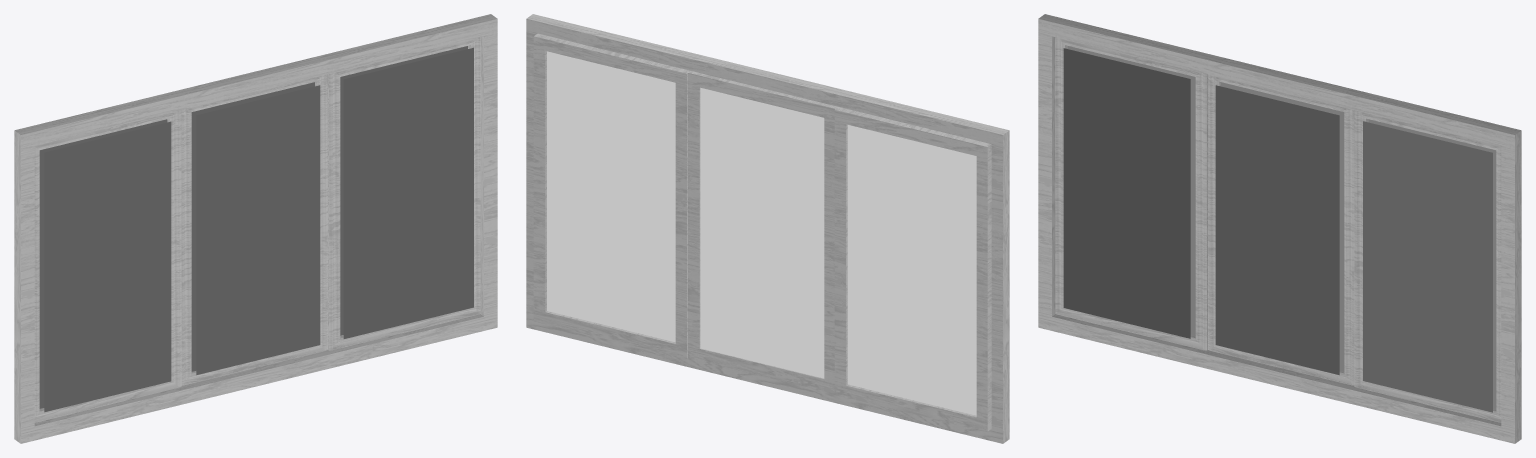
The model's file is Window_0dfbe90f.obj.
3 views of the same model, side by side, from view 1: azimuth 30°, elevation 25°; view 2: azimuth 150°, elevation 25°; view 3: azimuth 330°, elevation 25° (orthographic).
Visible parts, largest first — view 1: QuadDecalSpawnPlane_(2)_49cfdeb2, QuadDecalSpawnPlane_(1)_2a0385c7, QuadDecalSpawnPlane_9e9ce11f, FP222:WindowTreatment2_97979340, FP222:StandardWindow1_9d8eaa75, FP222:Window1_26d168e3; view 2: FP222:Window1_26d168e3, FP222:StandardWindow1_9d8eaa75, FP222:WindowTreatment2_97979340; view 3: QuadDecalSpawnPlane_(2)_49cfdeb2, QuadDecalSpawnPlane_(1)_2a0385c7, QuadDecalSpawnPlane_9e9ce11f, FP222:WindowTreatment2_97979340, FP222:StandardWindow1_9d8eaa75, FP222:Window1_26d168e3.
Part boxes in pixels (x1,y1,x2,y2): QuadDecalSpawnPlane_(2)_49cfdeb2: [343, 47, 473, 338]; QuadDecalSpawnPlane_(1)_2a0385c7: [44, 121, 171, 412]; QuadDecalSpawnPlane_9e9ce11f: [196, 85, 320, 375]; FP222:WindowTreatment2_97979340: [14, 14, 497, 443]; FP222:StandardWindow1_9d8eaa75: [34, 37, 480, 422]; FP222:Window1_26d168e3: [39, 46, 467, 408]; FP222:Window1_26d168e3: [547, 51, 976, 415]; FP222:StandardWindow1_9d8eaa75: [533, 33, 991, 431]; FP222:WindowTreatment2_97979340: [526, 14, 1009, 443]; QuadDecalSpawnPlane_(2)_49cfdeb2: [1363, 121, 1492, 412]; QuadDecalSpawnPlane_(1)_2a0385c7: [1063, 48, 1190, 338]; QuadDecalSpawnPlane_9e9ce11f: [1215, 85, 1339, 375]; FP222:WindowTreatment2_97979340: [1038, 14, 1521, 443]; FP222:StandardWindow1_9d8eaa75: [1055, 37, 1501, 422]; FP222:Window1_26d168e3: [1068, 46, 1496, 408].
Bounding box in the file's own units: 2.1 × 1.3 × 0.08.
